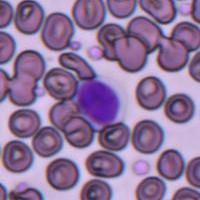L: (77, 75, 123, 125)
